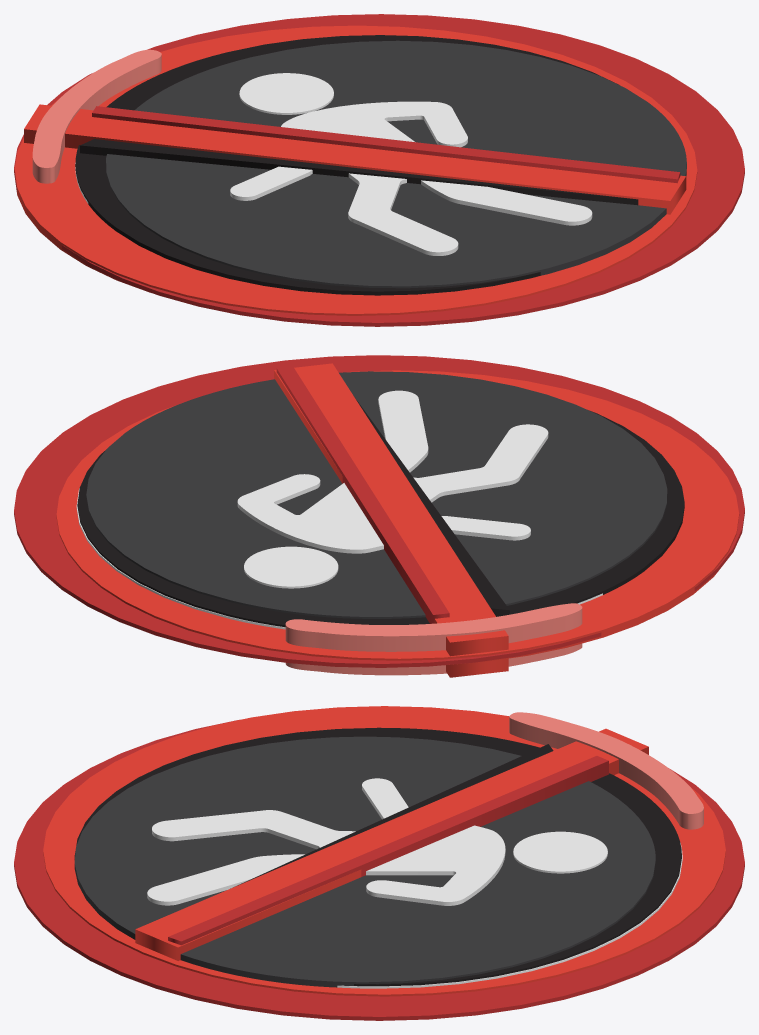
Rendered from emoji_u1f6b7.glb.
3 views of the same model, one above another, from view 1: azimuth 30°, elevation 25°; view 2: azimuth 150°, elevation 25°; view 3: azimuth 270°, elevation 25° (orthographic).
Parts seen in each view (by area): view 1: emoji_u1f6b7; view 2: emoji_u1f6b7; view 3: emoji_u1f6b7.
Part boxes in pixels (left/top/right/bottom): emoji_u1f6b7: left=14, top=14, right=744, bottom=326; emoji_u1f6b7: left=14, top=355, right=744, bottom=677; emoji_u1f6b7: left=14, top=706, right=744, bottom=1020.
Bounding box in the file's own units: 0.0339 × 0.0022 × 0.0339.
